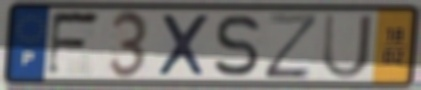3: (107, 7, 151, 82)
F: (44, 9, 105, 80)
S: (211, 12, 264, 79)
U: (321, 11, 375, 81)
X: (155, 11, 212, 79)
Z: (262, 11, 322, 81)
